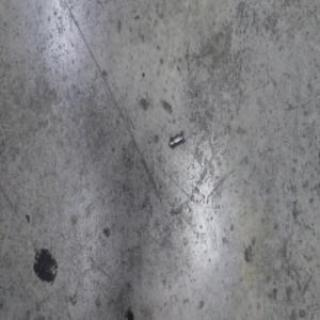Bolttrack_idkeyframe: (168, 129, 185, 149)
